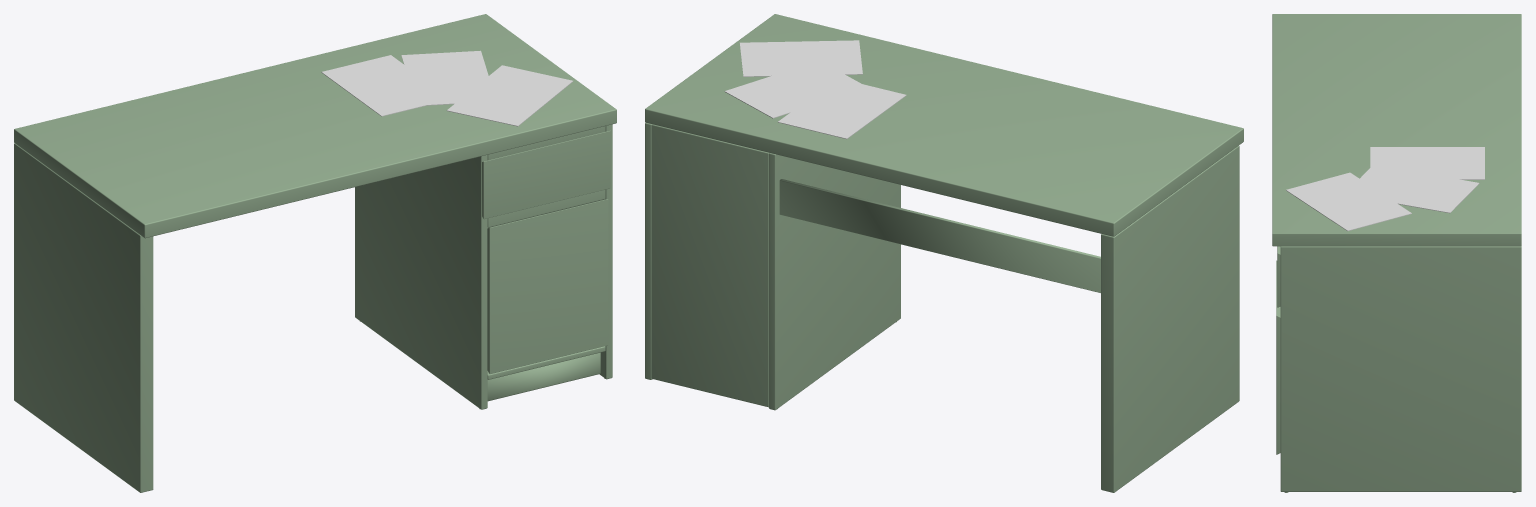
The model's file is desk scene for portfolio site.glb.
The picture shows the model from 3 angles, left to right: view 1: azimuth 30°, elevation 25°; view 2: azimuth 150°, elevation 25°; view 3: azimuth 270°, elevation 25°; orthographic projection. The views are drawn at different scales.
Parts seen in each view (by area): view 1: Desk, paper1, paper1.002, paper1.001; view 2: Desk, paper1, paper1.002, paper1.001; view 3: Desk, paper1.002, paper1, paper1.001.
Part boxes in pixels (x1,y1,x2,y2): Desk: [14, 14, 616, 492]; paper1: [321, 55, 450, 116]; paper1.002: [446, 65, 573, 126]; paper1.001: [401, 50, 495, 105]; Desk: [645, 14, 1243, 492]; paper1: [778, 79, 906, 139]; paper1.002: [739, 40, 862, 76]; paper1.001: [724, 61, 860, 118]; Desk: [1272, 14, 1521, 492]; paper1.002: [1286, 172, 1411, 231]; paper1: [1370, 147, 1484, 179]; paper1.001: [1345, 166, 1479, 213].
Size of the model in its own units: 1.38 by 0.7653 by 0.6633.
